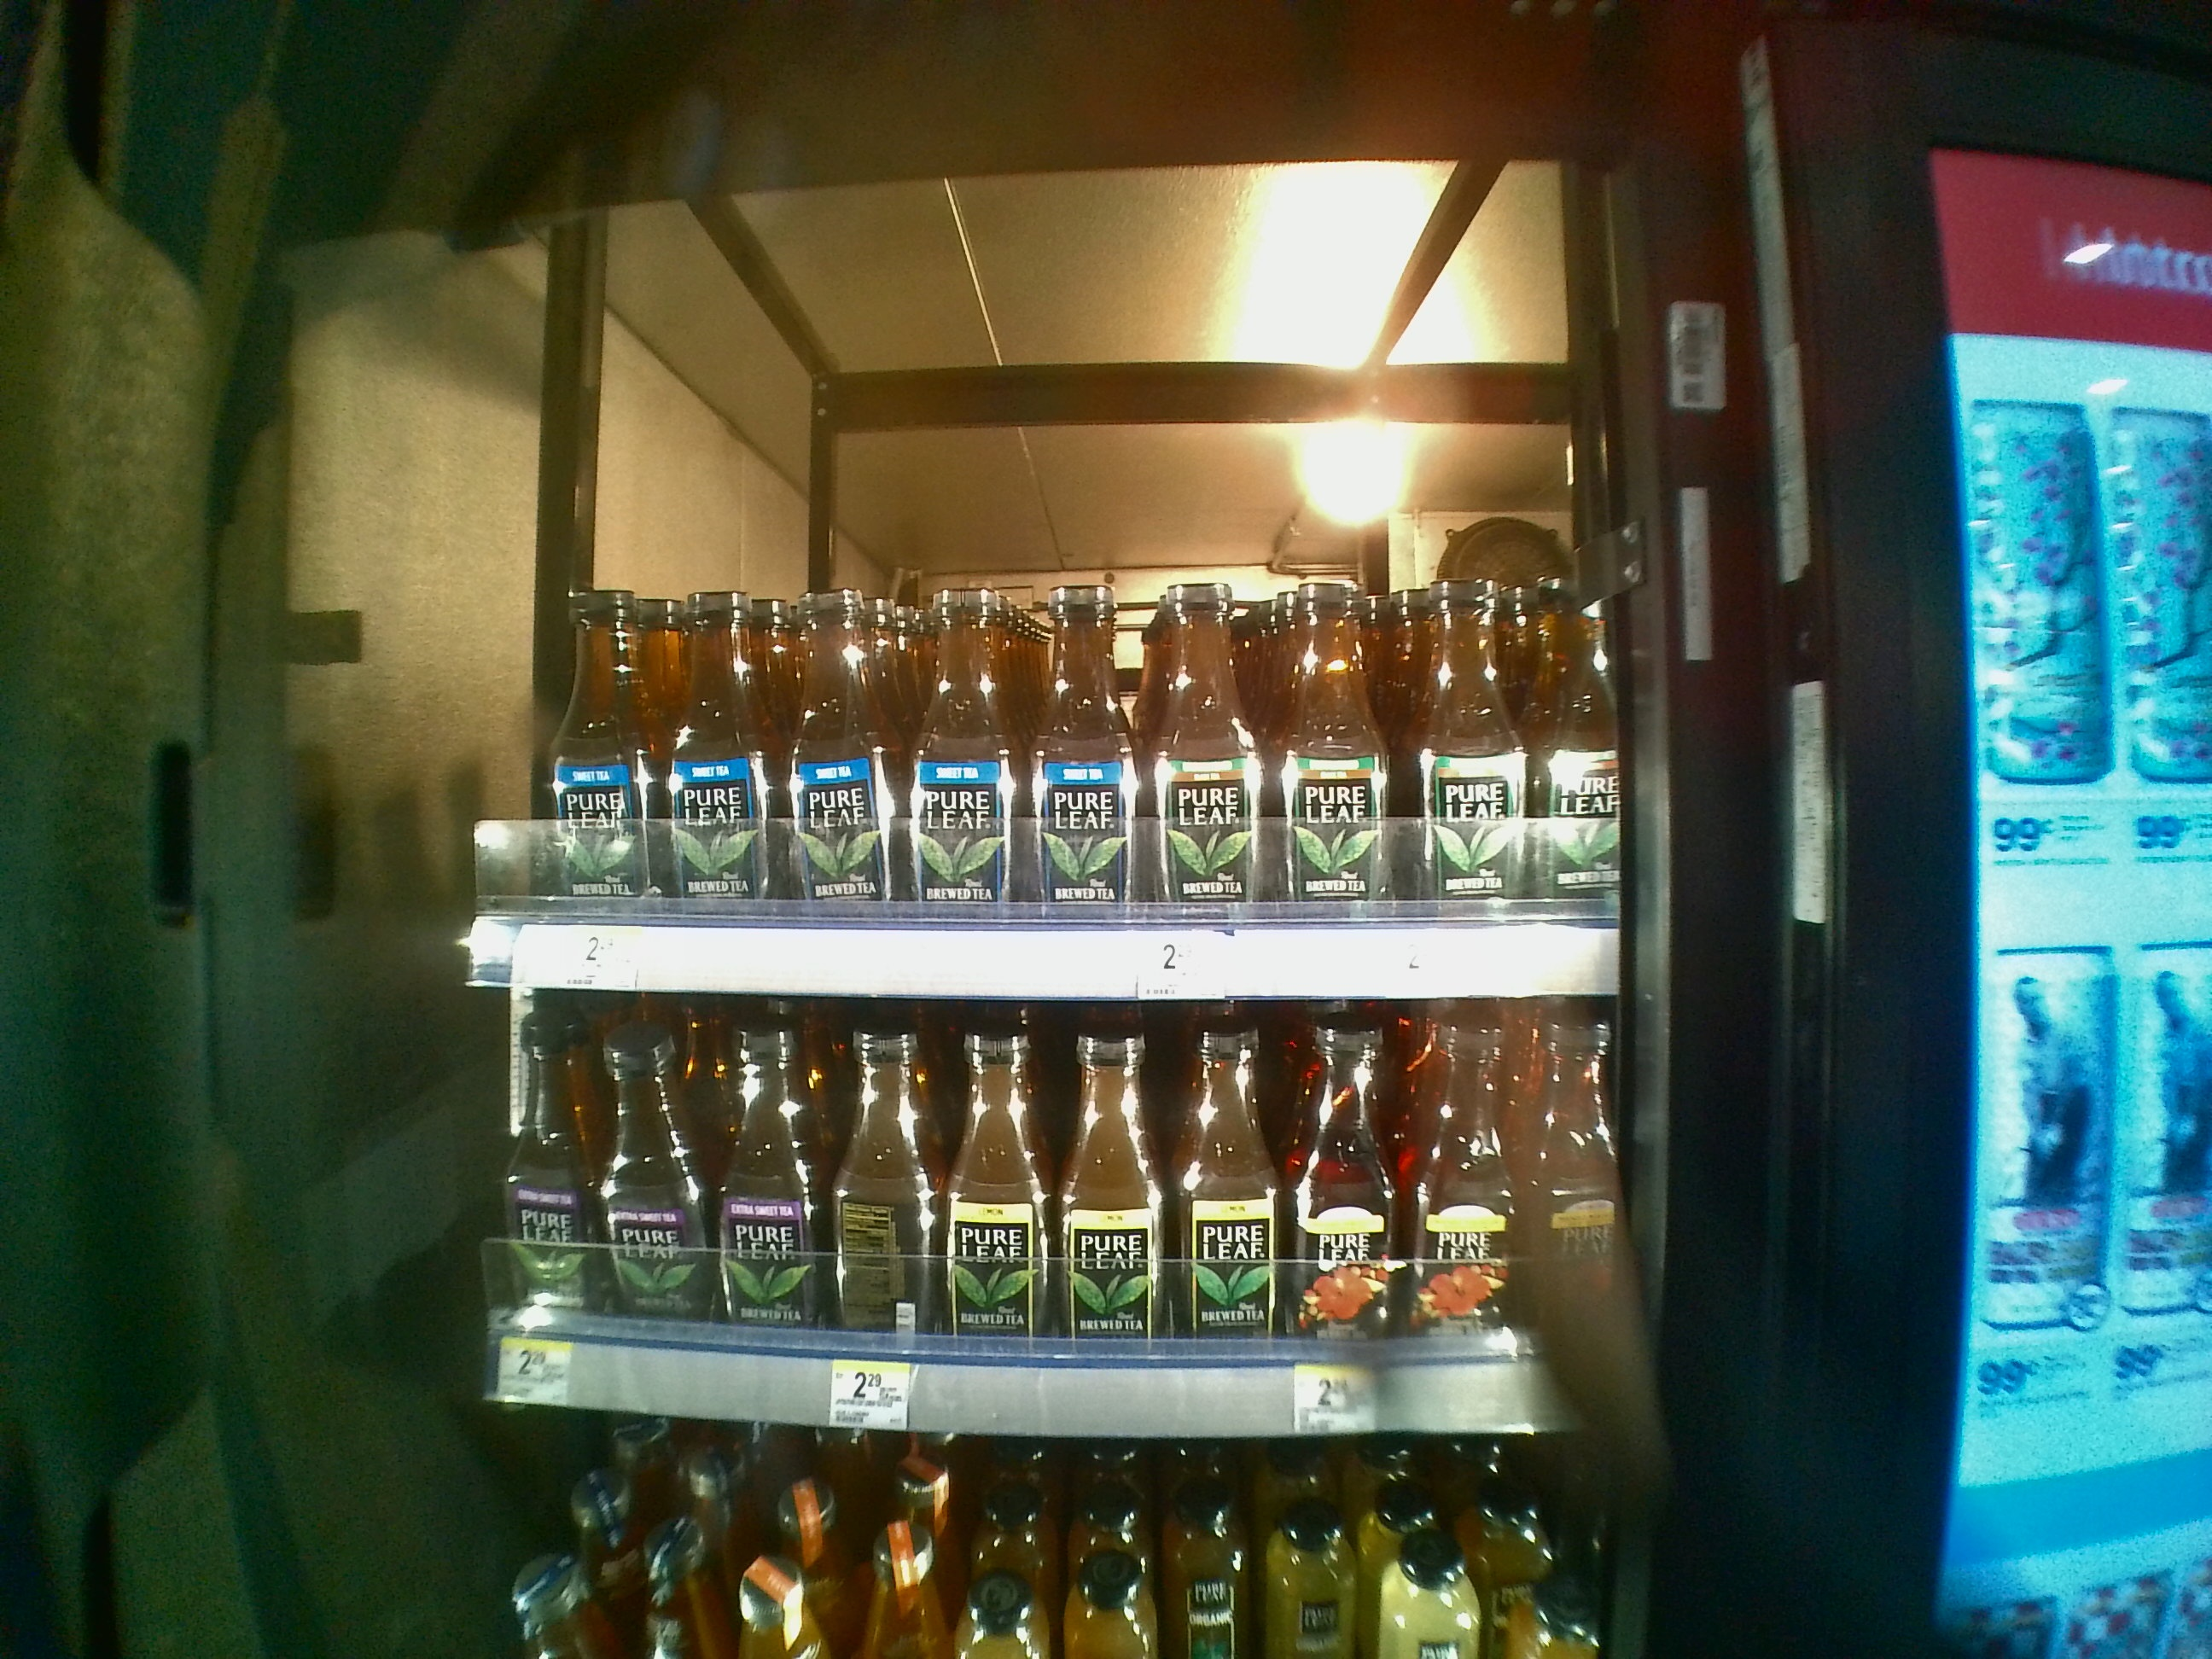shelf: (460, 397, 1616, 988), (444, 1002, 1634, 1427)
